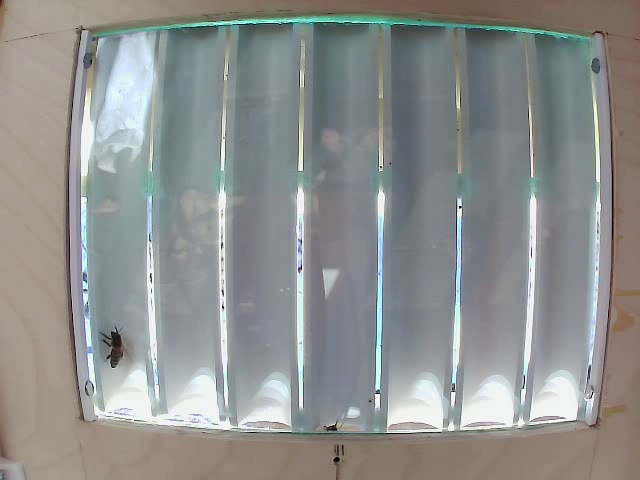bee: (105, 322, 150, 381)
